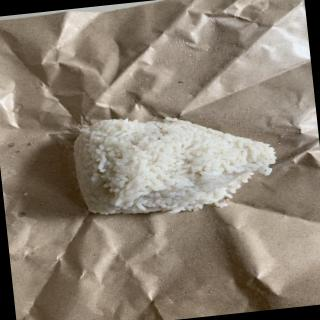Nasi: (71, 104, 279, 222)
